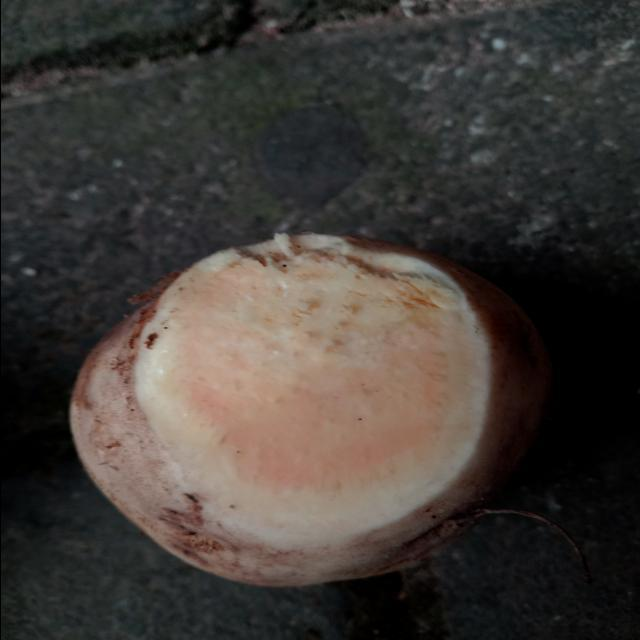Healthy Sweet Potato: (133, 235, 488, 548)
